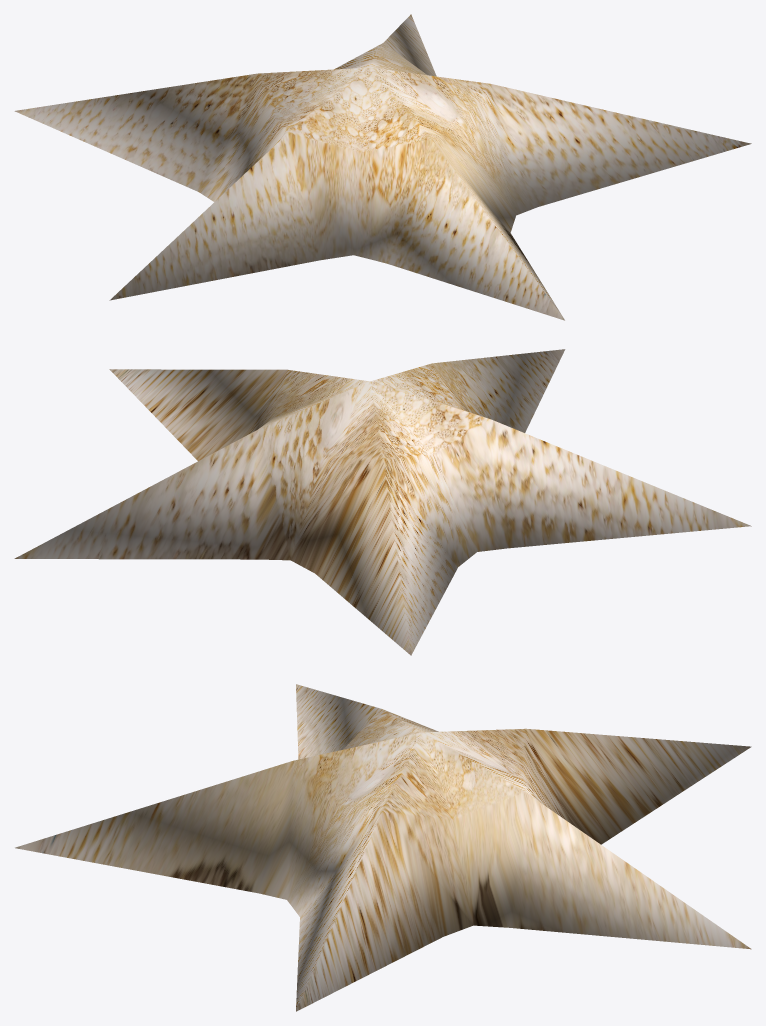
File: zeester.fbx
3 views of the same model, one above another, from view 1: azimuth 30°, elevation 25°; view 2: azimuth 150°, elevation 25°; view 3: azimuth 270°, elevation 25° (orthographic). The views are drawn at different scales.
Visible parts, largest first — view 1: seastar; view 2: seastar; view 3: seastar.
Boxes of the visible parts, <box> form: seastar: <box>14,14,751,320</box>; seastar: <box>14,349,751,655</box>; seastar: <box>15,684,751,1011</box>.
Bounding box in the file's own units: 279 × 51.25 × 265.
